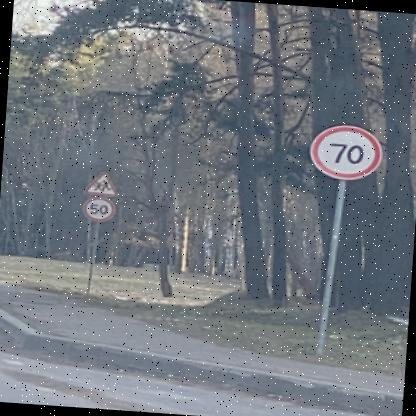speedlimit: (306, 122, 382, 180), (82, 194, 113, 219)
